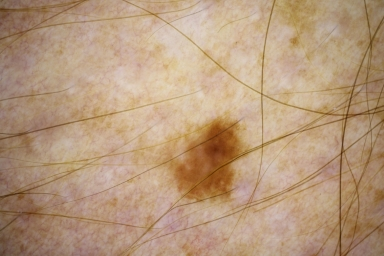nevus: (162, 102, 263, 215)
